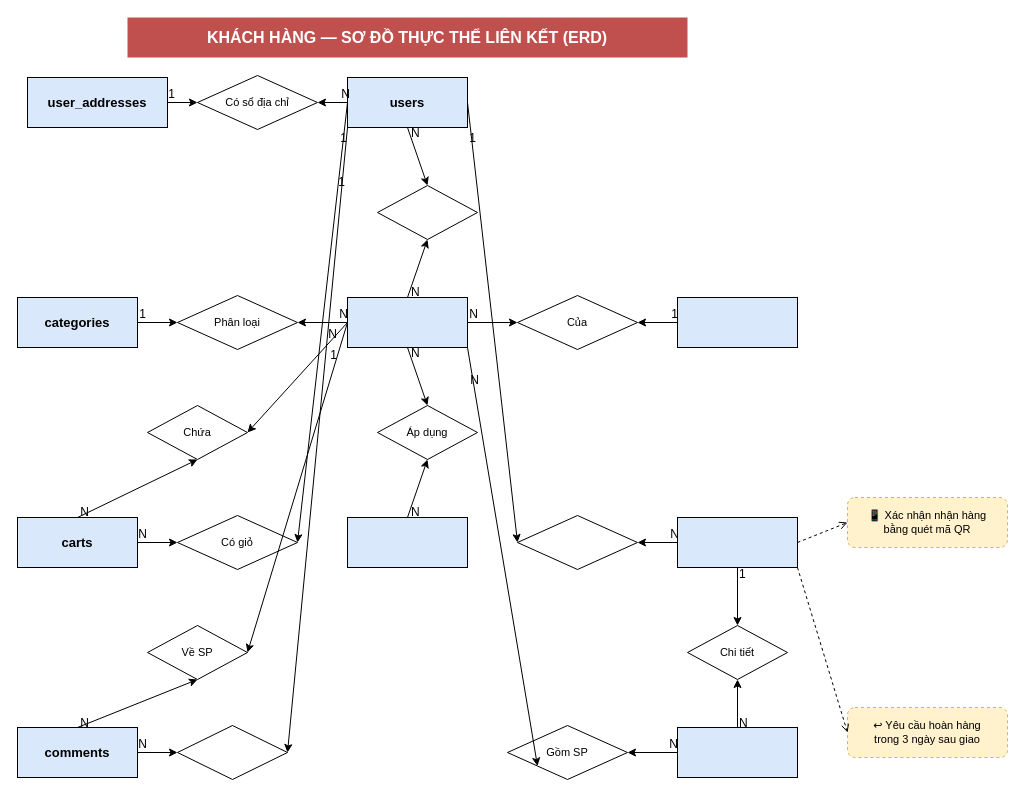
Some shapes in this 1025 by 797 pixel diagram are drawn without their labels. The centre of each missing label's shape, as x and y in pixels:
"brands" goes at [737,322].
"Duyệt" goes at [427,212].
"festivals" goes at [407,542].
"order_details" goes at [737,752].
"orders" goes at [737,542].
"products" goes at [407,322].
"Đánh giá" goes at [232,752].
"Đặt hàng" goes at [577,542].
